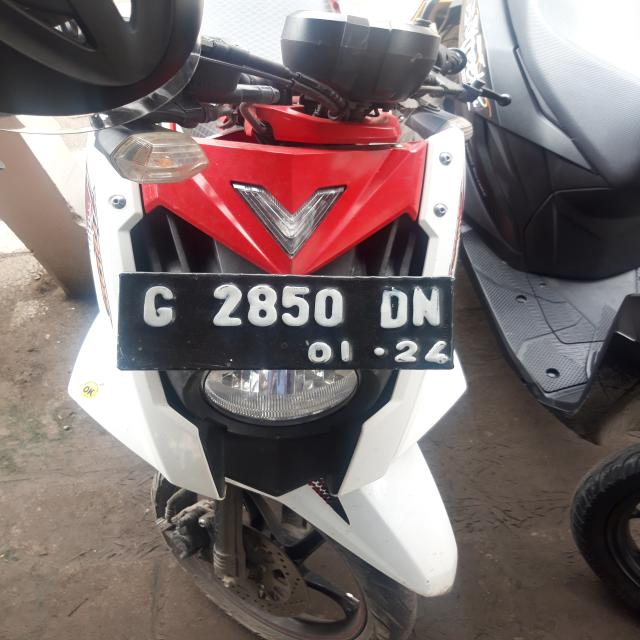plate: (121, 273, 456, 372)
